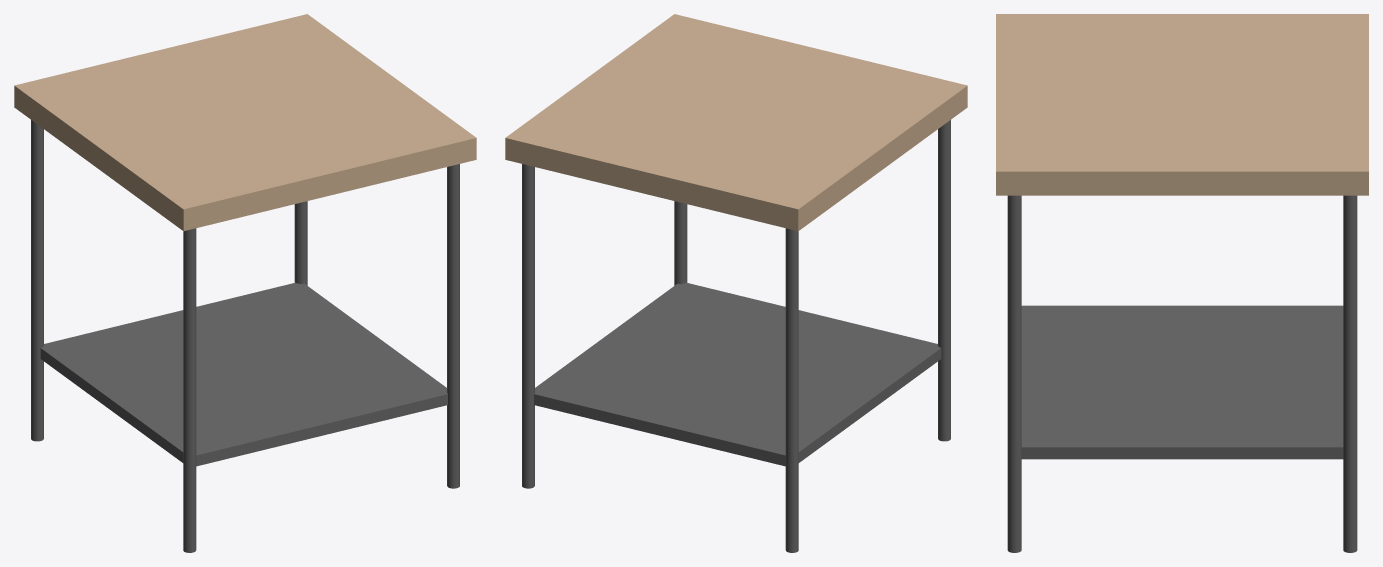
Rendered from NST-003.glb.
3 renders of one model, left to right at view 1: azimuth 30°, elevation 25°; view 2: azimuth 150°, elevation 25°; view 3: azimuth 270°, elevation 25°, orthographic. The views are drawn at different scales.
Visible parts, largest first — view 1: Cube, Cube.001, Cylinder, Cylinder.002, Cylinder.001, Cylinder.003; view 2: Cube, Cube.001, Cylinder.001, Cylinder.003, Cylinder, Cylinder.002; view 3: Cube, Cube.001, Cylinder.002, Cylinder.003.
Boxes of the visible parts, x1,y1,x2,y2 form: Cube: (14,14,476,231); Cube.001: (40,282,447,466); Cylinder: (183,228,196,552); Cylinder.002: (447,164,459,488); Cylinder.001: (31,120,43,441); Cylinder.003: (294,201,307,285); Cube: (505,14,967,231); Cube.001: (534,282,941,466); Cylinder.001: (785,228,798,552); Cylinder.003: (522,164,534,488); Cylinder: (938,120,950,441); Cylinder.002: (674,201,687,285); Cube: (996,14,1368,195); Cube.001: (1021,305,1343,459); Cylinder.002: (1007,195,1021,552); Cylinder.003: (1343,195,1357,552).
Bounding box in the file's own units: 0.42 × 0.48 × 0.42.
